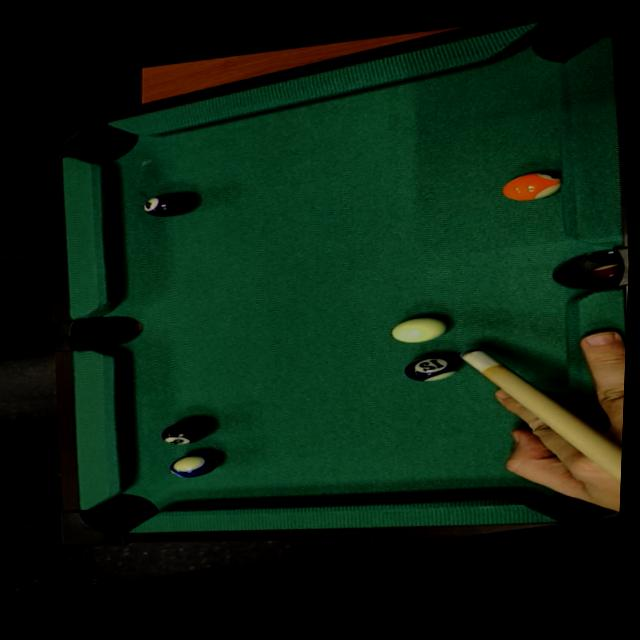cue ball: (388, 314, 450, 347)
other: (401, 349, 461, 387), (499, 169, 563, 204), (165, 449, 224, 483), (138, 189, 200, 221), (157, 415, 213, 449)
